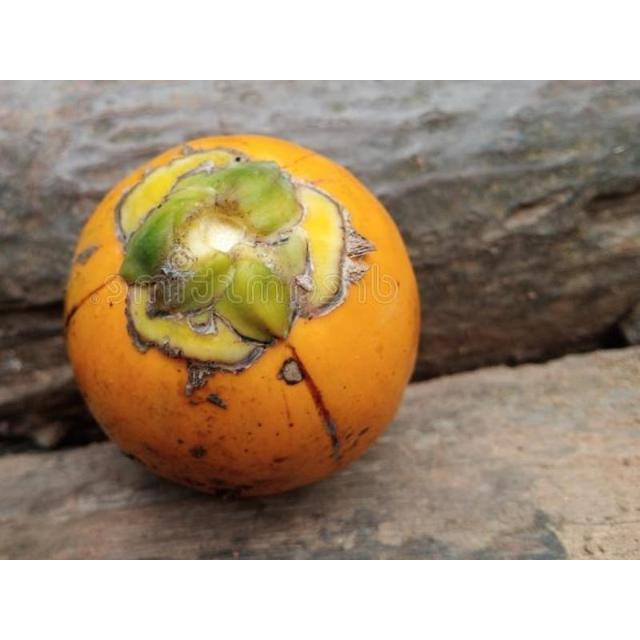good: (62, 134, 422, 501)
